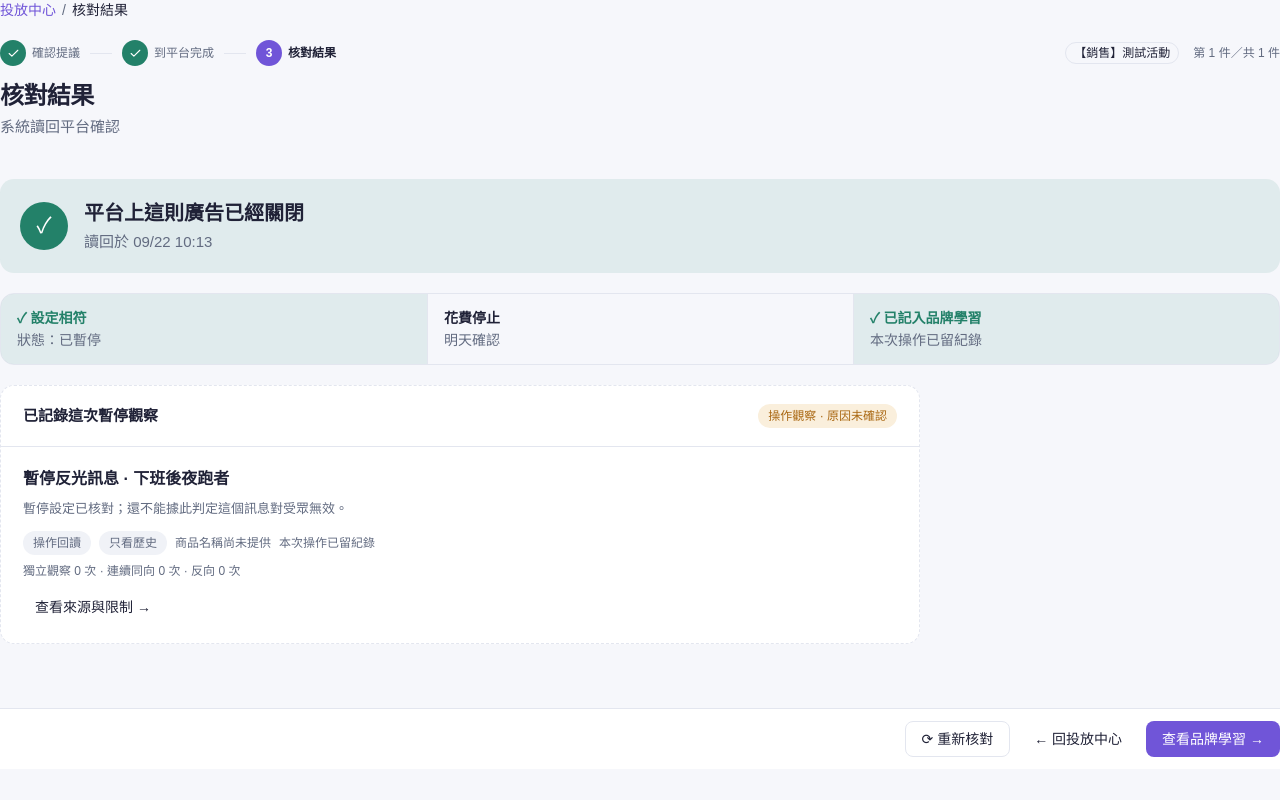
Test: VerifyPage（F22-I04）confirmed › actual label-null receipt preserves known scope/source identities without guessing names
expect the text "商品名稱尚未提供" is shown: met, box x1=175 y1=534 x2=271 y2=550
Step 1. Click the button "查看來源與限制 →" → (93, 606), box x1=23 y1=590 x2=163 y2=622
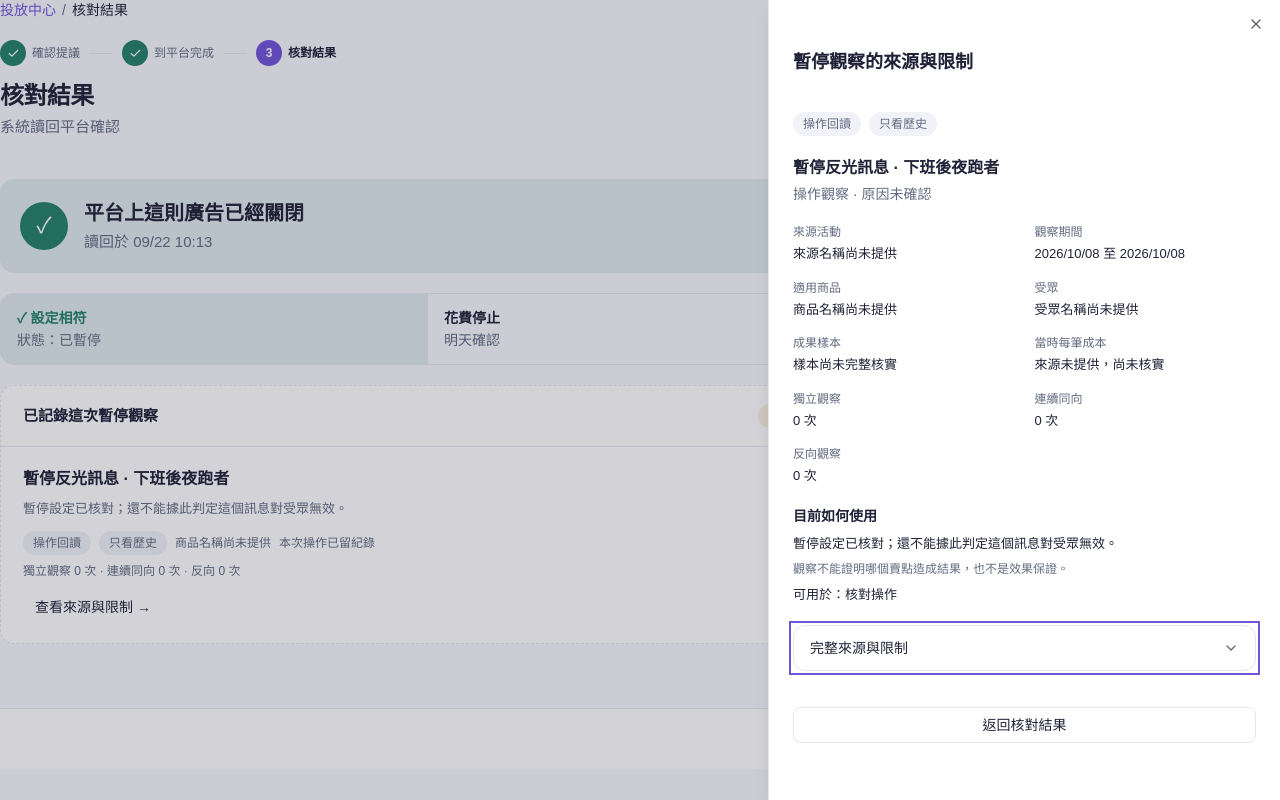
expect the text "來源名稱尚未提供" is shown: met, box x1=793 y1=246 x2=897 y2=261
expect the text "受眾名稱尚未提供" is shown: met, box x1=1034 y1=302 x2=1138 y2=316
Step 2. Click the button "完整來源與限制" → (859, 648), box x1=794 y1=626 x2=1255 y2=670
(page scrolled)
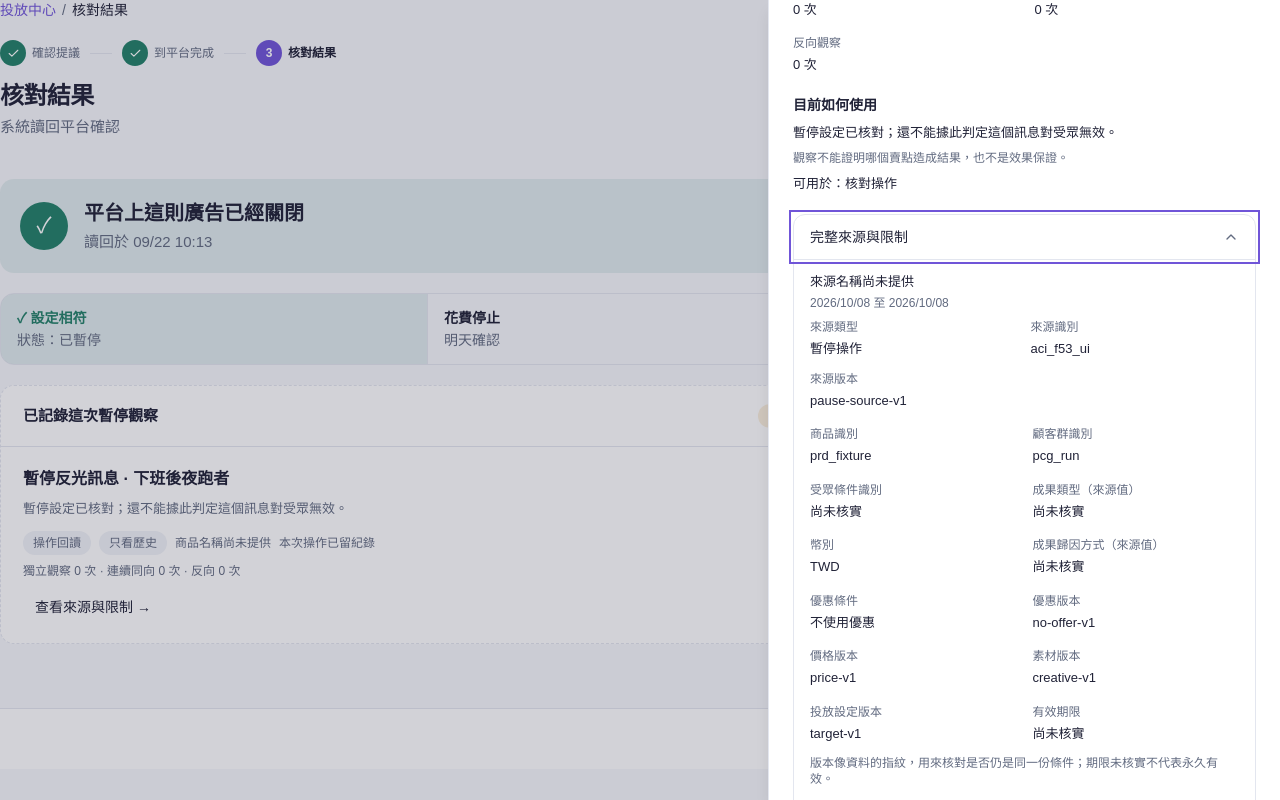
expect the text "prd_fixture" is shown: met, box x1=810 y1=448 x2=871 y2=463
expect the text "pcg_run" is shown: met, box x1=1032 y1=448 x2=1080 y2=463
expect the text "aci_f53_ui" is shown: met, box x1=1030 y1=341 x2=1090 y2=356
